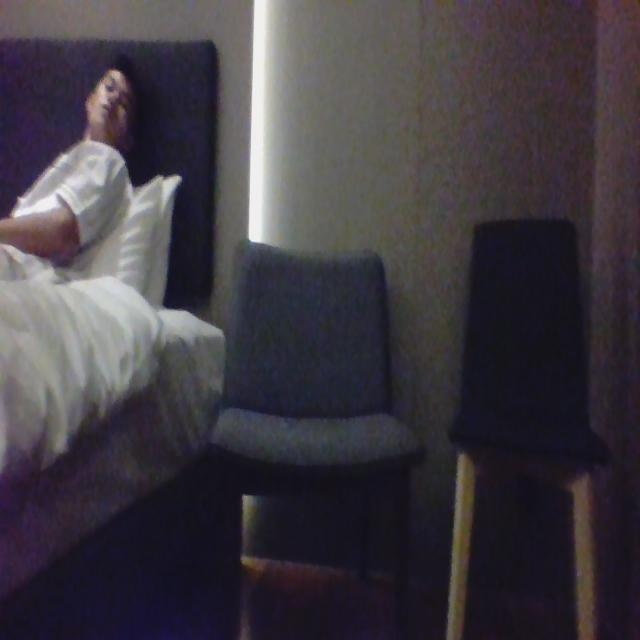empty: (230, 248, 388, 446), (456, 214, 587, 452)
